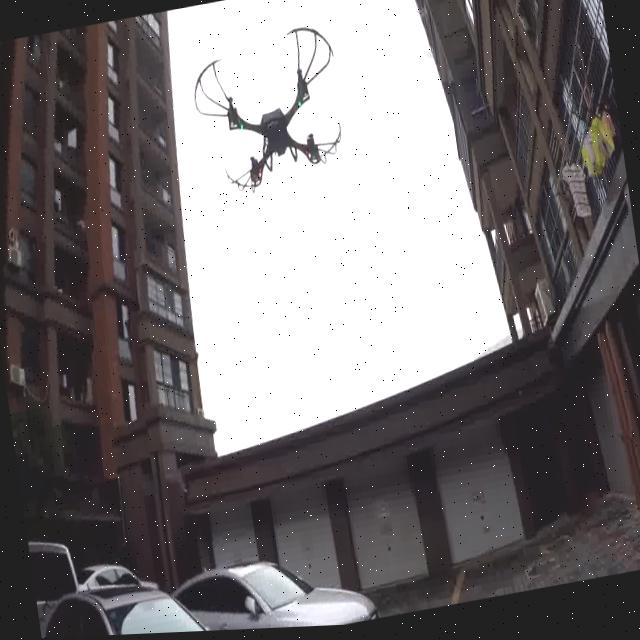drone: (175, 21, 362, 221)
